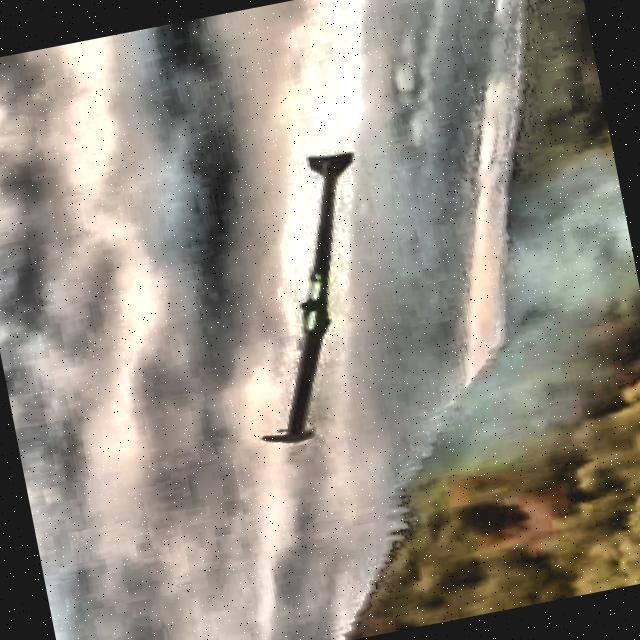iha: (197, 136, 411, 460)
